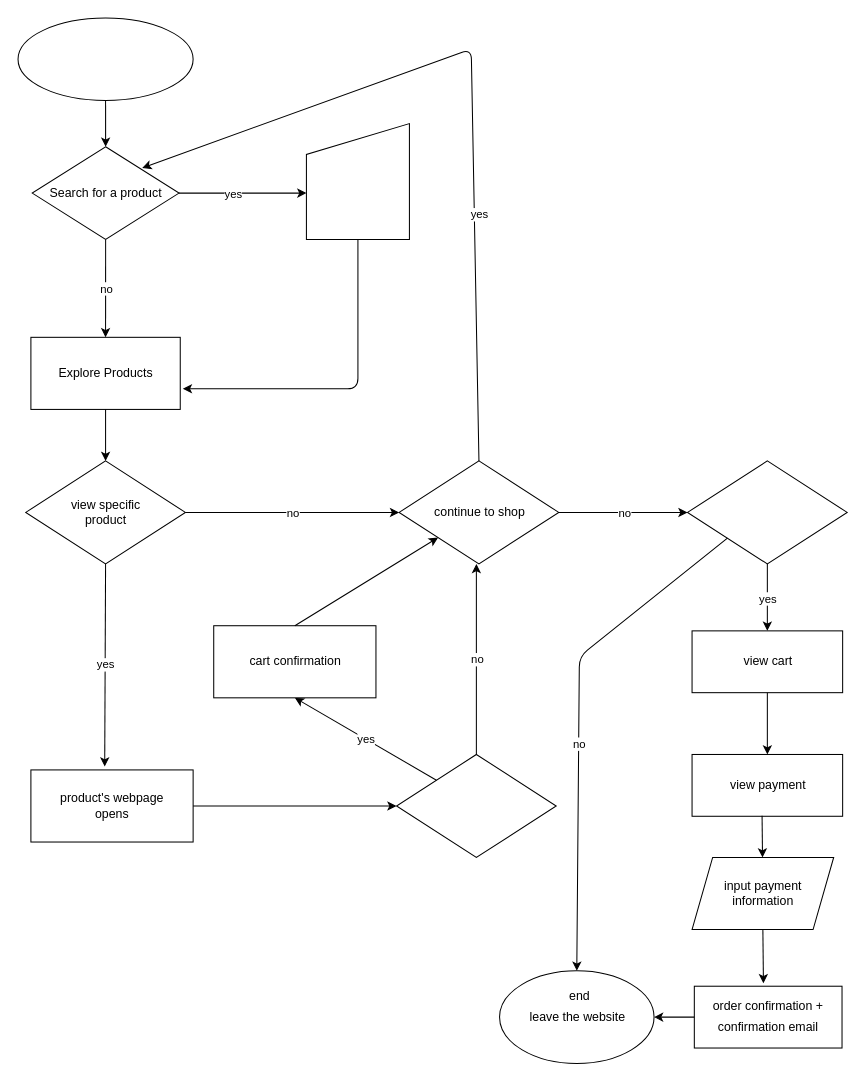
Some shapes in this 865 by 1082 pixel diagram are drawn without their labels. The shapes that lost their labels are listed below. From the top down, each one's centre as x and y in pixels, then its label:
the point at 105,58: Start: Enter Website
the point at 357,181: product input from search
the point at 766,512: checkout
the point at 476,805: add to the cart
